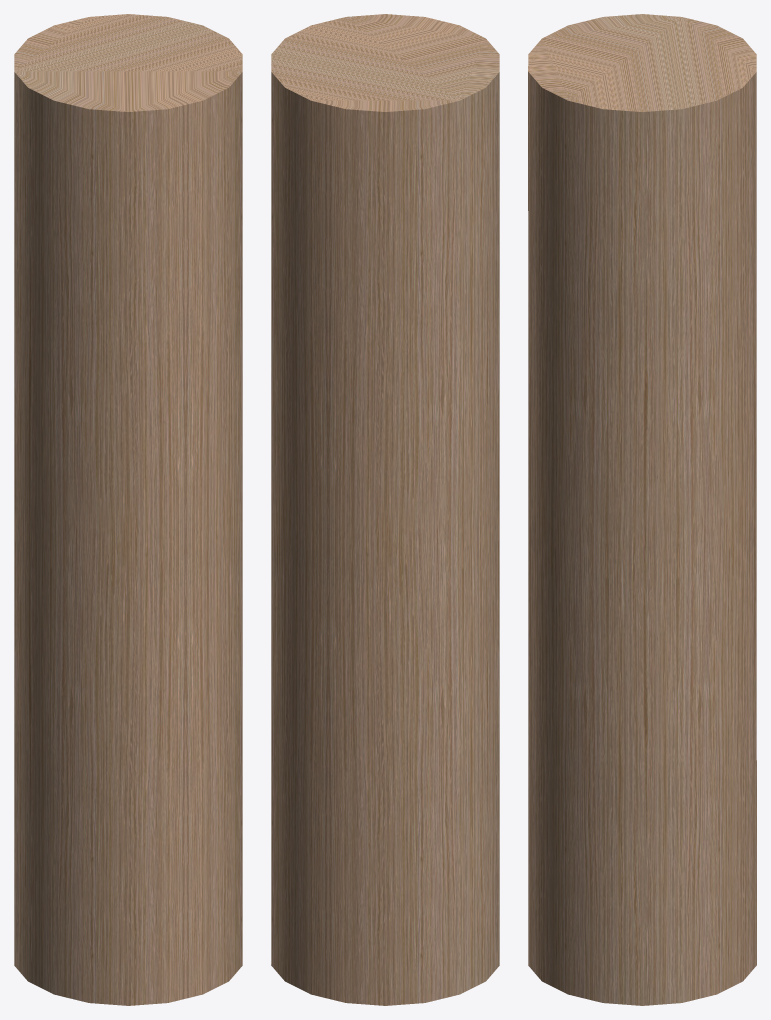
The model's file is Column.FBX.
3 views of the same model, side by side, from view 1: azimuth 30°, elevation 25°; view 2: azimuth 150°, elevation 25°; view 3: azimuth 270°, elevation 25° (orthographic).
Parts seen in each view (by area): view 1: Column; view 2: Column; view 3: Column.
Boxes of the visible parts, left/top/right/bottom form: Column: left=14, top=14, right=242, bottom=1005; Column: left=271, top=14, right=499, bottom=1005; Column: left=528, top=14, right=756, bottom=1005.
Size of the model in its own units: 86.67 by 368 by 85.36.
1 material, 1 textured.
